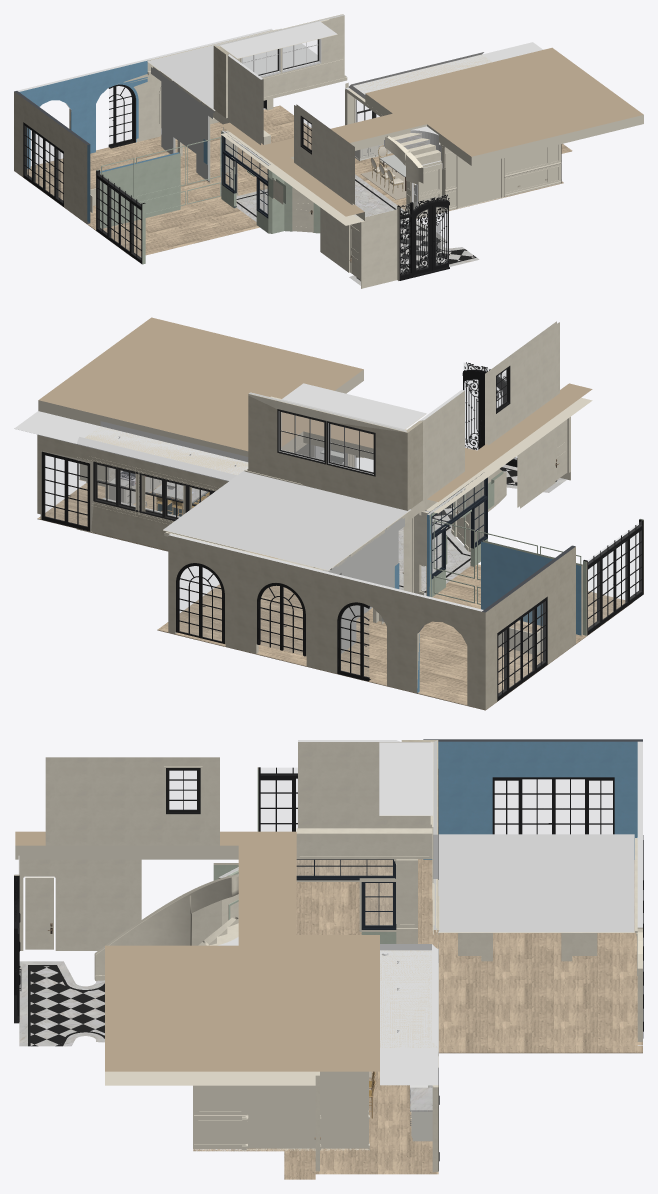
The model's file is kitchen-69f12b821977.glb.
3 renders of one model, top to bottom at view 1: azimuth 30°, elevation 25°; view 2: azimuth 150°, elevation 25°; view 3: azimuth 270°, elevation 25°, orthographic. The views are drawn at different scales.
Parts seen in each view (by area): view 1: kitchen-look-2575515a05775d9e, kitchen-look-3b0077416469e01b, kitchen-look-969b861f9850351e, kitchen-19647d6da46c2b80, kitchen-look-039192b0560cfac3, kitchen-look-b19b106fc304963c, kitchen-look-4a969f5cc1ae3dfe, kitchen-look-746250f96522f643, kitchen-look-55ff1dfd7b659ec1, kitchen-look-245f595ae2832e16, kitchen-look-d5a4a1b5d3594c04, kitchen-look-7f59123d155b94ce (+37 smaller); view 2: kitchen-look-2575515a05775d9e, kitchen-look-969b861f9850351e, kitchen-look-3b0077416469e01b, kitchen-look-4a969f5cc1ae3dfe, kitchen-look-245f595ae2832e16, kitchen-look-039192b0560cfac3, kitchen-look-746250f96522f643, kitchen-bfb9fa537cd11d1d, kitchen-49bdd6945a2d0056, kitchen-look-7f59123d155b94ce, kitchen-look-b19b106fc304963c, kitchen-look-55ff1dfd7b659ec1 (+39 smaller); view 3: kitchen-look-2575515a05775d9e, kitchen-look-3b0077416469e01b, kitchen-look-4a969f5cc1ae3dfe, kitchen-look-746250f96522f643, kitchen-look-039192b0560cfac3, kitchen-look-85f0fd939e0fcc78, kitchen-look-7f59123d155b94ce, kitchen-9a0e9ee9b2a451d7, kitchen-look-e388ad8855329420, kitchen-look-daececc498878d00, kitchen-5b6bbac285e58726, kitchen-look-9d91b47435c6fb33 (+28 smaller).
Boxes of the visible parts, x1=… form: kitchen-look-2575515a05775d9e: x1=221, y1=47, x2=643, y2=225; kitchen-look-3b0077416469e01b: x1=14, y1=105, x2=572, y2=257; kitchen-look-969b861f9850351e: x1=17, y1=28, x2=273, y2=168; kitchen-19647d6da46c2b80: x1=444, y1=144, x2=560, y2=208; kitchen-look-039192b0560cfac3: x1=14, y1=91, x2=90, y2=223; kitchen-look-b19b106fc304963c: x1=100, y1=152, x2=180, y2=228; kitchen-look-4a969f5cc1ae3dfe: x1=147, y1=28, x2=346, y2=110; kitchen-look-746250f96522f643: x1=294, y1=104, x2=354, y2=205; kitchen-look-55ff1dfd7b659ec1: x1=151, y1=67, x2=214, y2=180; kitchen-look-245f595ae2832e16: x1=213, y1=14, x2=344, y2=108; kitchen-look-d5a4a1b5d3594c04: x1=361, y1=209, x2=397, y2=288; kitchen-look-7f59123d155b94ce: x1=228, y1=54, x2=263, y2=144; kitchen-look-2575515a05775d9e: x1=38, y1=317, x2=592, y2=513; kitchen-look-969b861f9850351e: x1=168, y1=533, x2=483, y2=708; kitchen-look-3b0077416469e01b: x1=37, y1=479, x2=632, y2=710; kitchen-look-4a969f5cc1ae3dfe: x1=163, y1=471, x2=410, y2=570; kitchen-look-245f595ae2832e16: x1=248, y1=392, x2=407, y2=510; kitchen-look-039192b0560cfac3: x1=481, y1=545, x2=575, y2=709; kitchen-look-746250f96522f643: x1=485, y1=321, x2=559, y2=445; kitchen-bfb9fa537cd11d1d: x1=76, y1=444, x2=246, y2=551; kitchen-49bdd6945a2d0056: x1=76, y1=421, x2=248, y2=480; kitchen-look-7f59123d155b94ce: x1=419, y1=390, x2=464, y2=511; kitchen-look-b19b106fc304963c: x1=481, y1=540, x2=582, y2=635; kitchen-look-55ff1dfd7b659ec1: x1=328, y1=517, x2=404, y2=653; kitchen-look-2575515a05775d9e: x1=15, y1=831, x2=379, y2=1085; kitchen-look-3b0077416469e01b: x1=284, y1=859, x2=642, y2=1179; kitchen-look-4a969f5cc1ae3dfe: x1=438, y1=834, x2=634, y2=932; kitchen-look-746250f96522f643: x1=45, y1=757, x2=219, y2=845; kitchen-look-039192b0560cfac3: x1=423, y1=739, x2=642, y2=859; kitchen-look-85f0fd939e0fcc78: x1=19, y1=859, x2=141, y2=950; kitchen-look-7f59123d155b94ce: x1=298, y1=740, x2=401, y2=828; kitchen-9a0e9ee9b2a451d7: x1=380, y1=950, x2=438, y2=1047; kitchen-look-e388ad8855329420: x1=30, y1=966, x2=104, y2=1046; kitchen-look-daececc498878d00: x1=296, y1=828, x2=432, y2=859; kitchen-5b6bbac285e58726: x1=247, y1=1085, x2=315, y2=1150; kitchen-look-9d91b47435c6fb33: x1=379, y1=742, x2=432, y2=815.
Bounding box in the file's own units: 20.84 × 6.36 × 16.8.
Materials: 71 (15 with a texture image).
